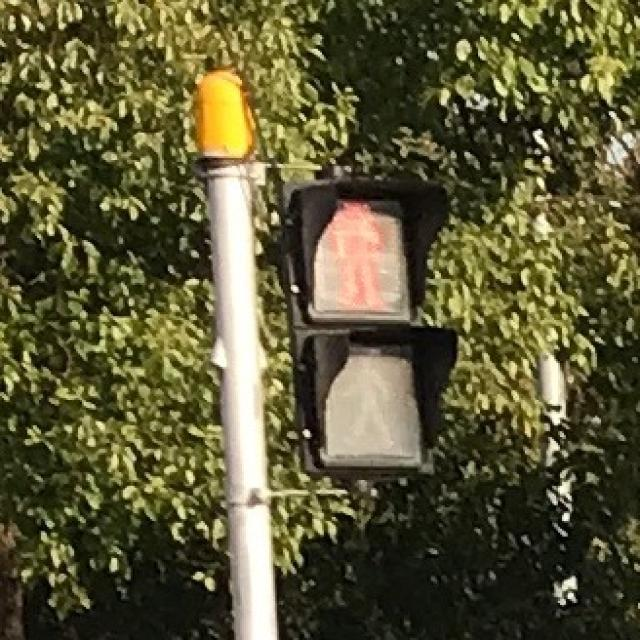red-crossing: (302, 181, 413, 320)
